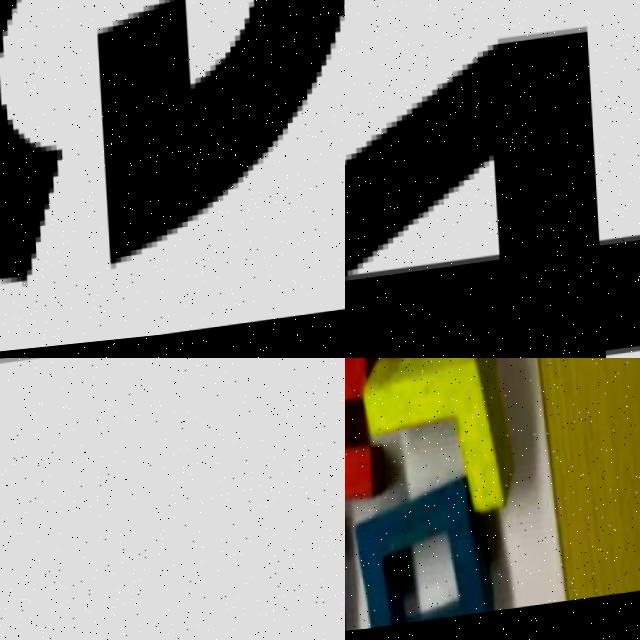A: (345, 358, 379, 526)
D: (350, 479, 493, 637)
G: (0, 0, 345, 305)
L: (0, 358, 345, 493), (353, 358, 515, 538)
